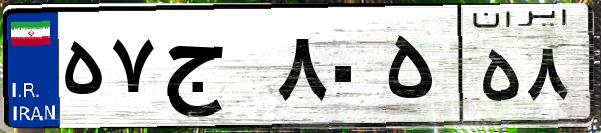0: (330, 28, 385, 110)
5: (385, 28, 445, 110), (57, 26, 110, 100), (475, 38, 525, 113)
7: (110, 28, 158, 98)
8: (270, 28, 330, 110), (525, 38, 570, 115)
ج: (158, 20, 270, 120)
